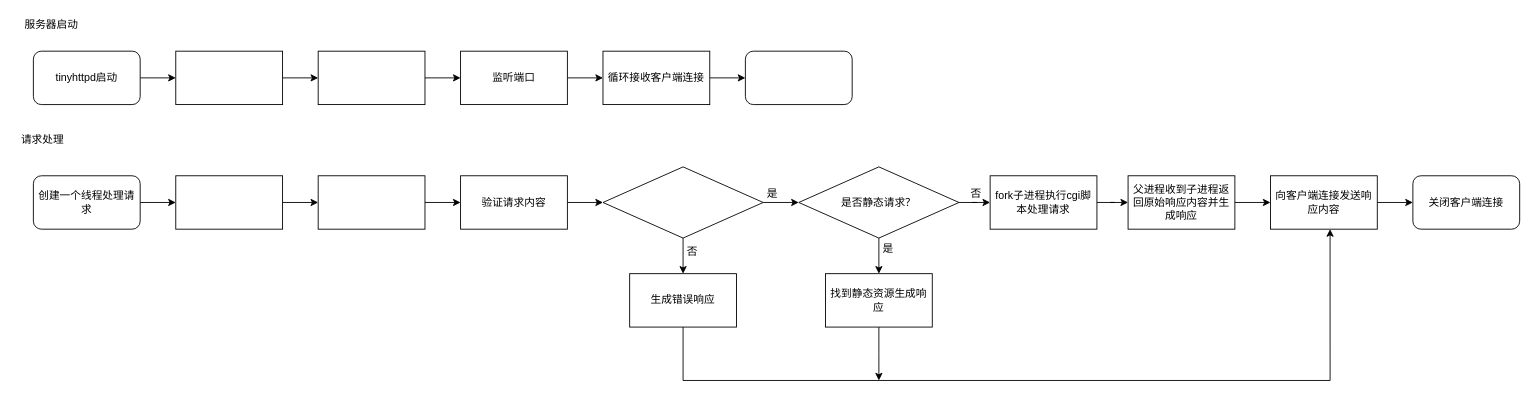
This 1535x403 diagram has some shape labels left out. The centre of each missing label's shape, as x and y in pixels:
从客户端套接字读取请求原始内容: [229,202]
创建服务端套接字: [229,77]
每来一个客户端连接，创建一个线程进行处理: [798,77]
绑定到指定端口: [371,77]
解析请求原始内容为指定数据结构: [371,202]
请求验证通过？: [682,202]
